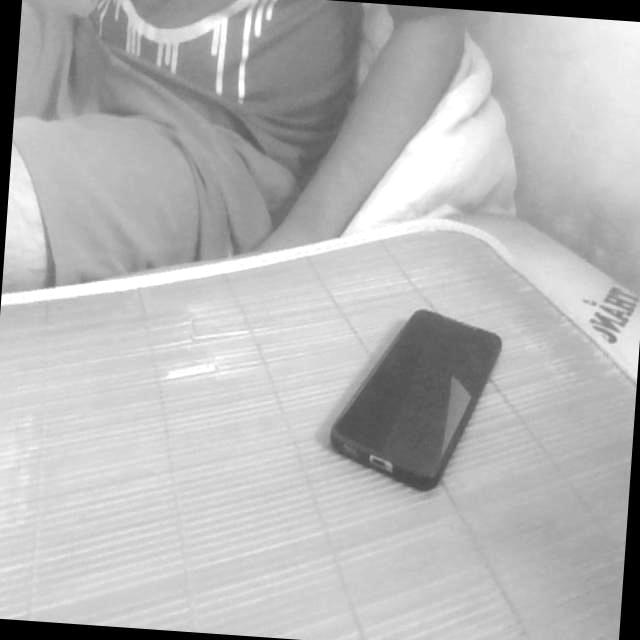phone: (306, 283, 524, 523)
